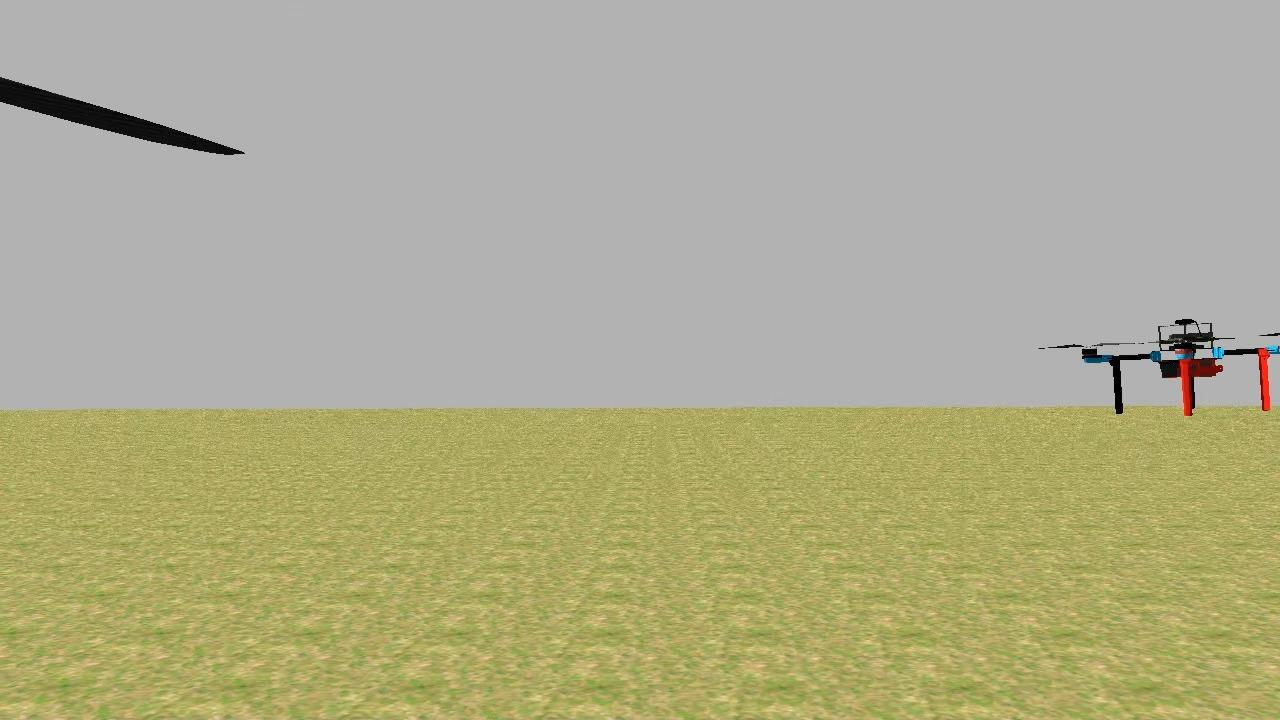UAV: (1023, 308, 1280, 428)
